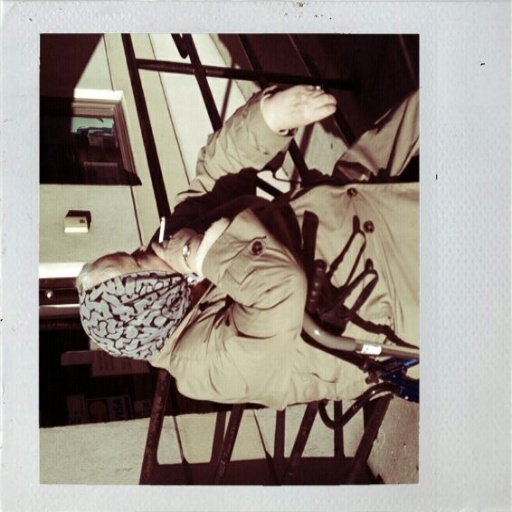hand: (265, 82, 337, 130), (149, 222, 199, 278)
